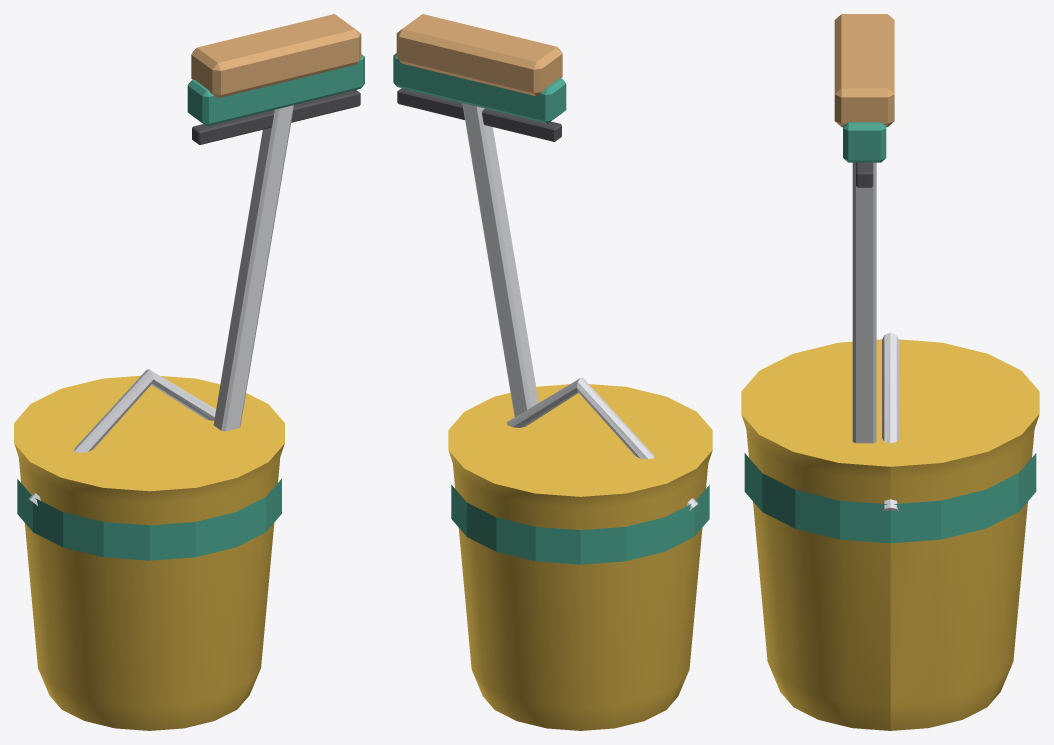
Rendered from petrol-station-and-forecourt-shop-squeegee-bucket-6a01ab07__33985.glb.
3 views of the same model, side by side, from view 1: azimuth 30°, elevation 25°; view 2: azimuth 150°, elevation 25°; view 3: azimuth 270°, elevation 25° (orthographic). The views are drawn at different scales.
Parts seen in each view (by area): view 1: squeegee-bucket; view 2: squeegee-bucket; view 3: squeegee-bucket.
Part boxes in pixels (x1=…): squeegee-bucket: x1=14, y1=14, x2=364, y2=730; squeegee-bucket: x1=393, y1=14, x2=712, y2=730; squeegee-bucket: x1=741, y1=14, x2=1039, y2=730.
Size of the model in its own units: 0.4663 by 0.89 by 0.3466.
